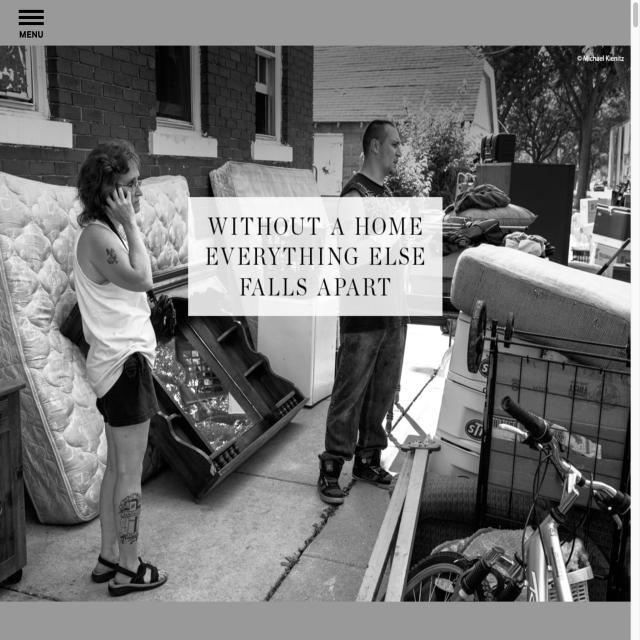text: (194, 196, 446, 318)
